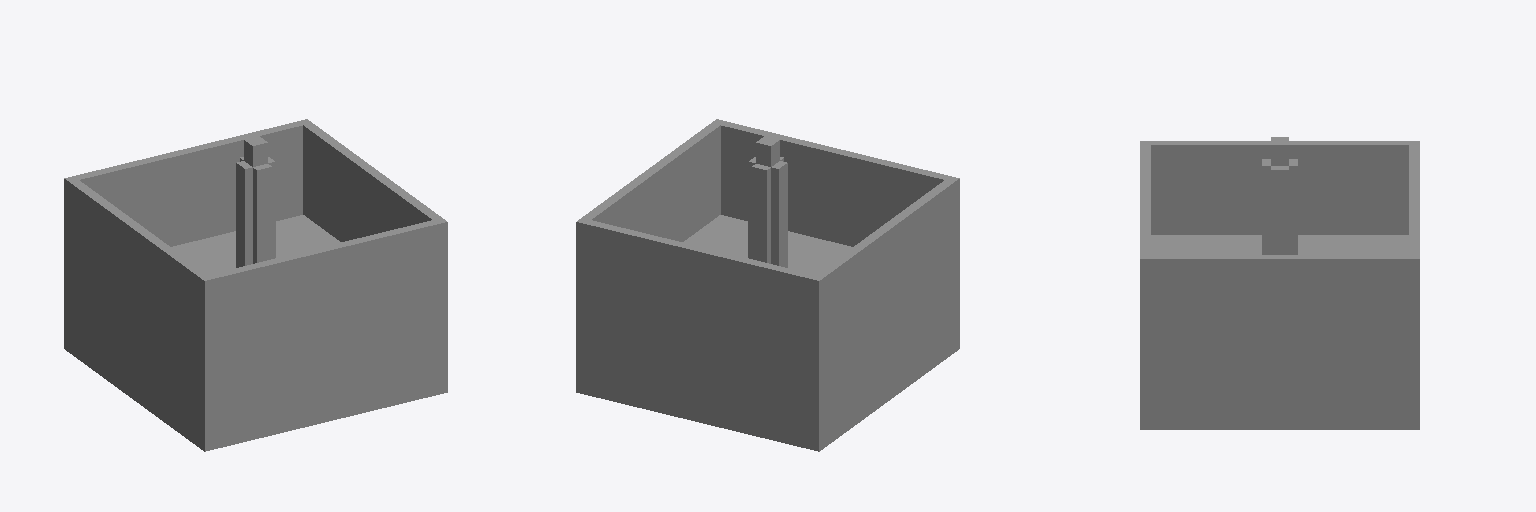
File: auto_siever_box.obj
3 views of the same model, side by side, from view 1: azimuth 30°, elevation 25°; view 2: azimuth 150°, elevation 25°; view 3: azimuth 270°, elevation 25° (orthographic).
Visible parts, largest first — view 1: Cube.001_Cube.003; view 2: Cube.001_Cube.003; view 3: Cube.001_Cube.003.
Boxes of the visible parts, x1=… form: Cube.001_Cube.003: x1=64, y1=119, x2=447, y2=451; Cube.001_Cube.003: x1=576, y1=119, x2=959, y2=451; Cube.001_Cube.003: x1=1140, y1=137, x2=1419, y2=429.
Bounding box in the file's own units: 2 × 1.81 × 2.